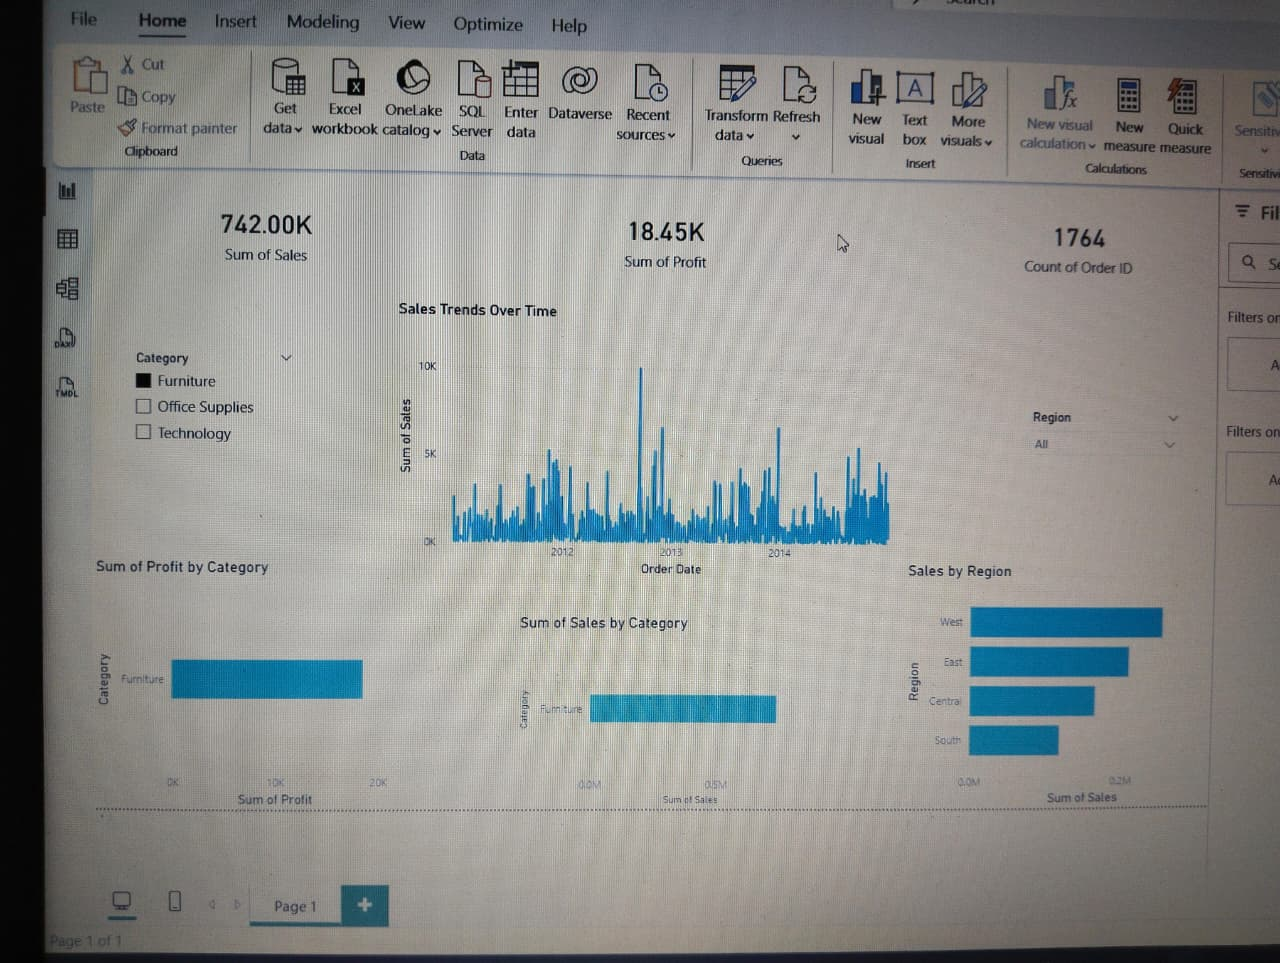

What the dashboard file says about the page in this screenshot:
{"tool":"powerbi","page":{"name":"Page 1","canvas":[1280,720],"ordinal":0},"visuals":[{"type":"card","fields":{"Values":["Sum(Superstore.Sales)"]},"box":[11,0,365,142.7],"z":0},{"type":"card","fields":{"Values":["Sum(Superstore.Profit)"]},"box":[472,0,334.8,142.7],"z":2},{"type":"card","fields":{"Values":["Count(Superstore.Order ID)"]},"box":[945.5,0,334.8,142.7],"z":5},{"type":"lineChart","title":"Sales Trends Over Time","fields":{"Category":["Superstore.Order Date"],"Y":["Sum(Superstore.Sales)"]},"box":[334.8,142.7,580.4,317],"z":6},{"type":"clusteredBarChart","fields":{"Category":["Superstore.Category"],"Y":["Sum(Superstore.Sales)"]},"box":[472,498.1,334.8,222.3],"z":7},{"type":"clusteredBarChart","fields":{"Y":["Sum(Superstore.Profit)"],"Category":["Superstore.Category"]},"box":[0,435,334.8,285.4],"z":8},{"type":"clusteredBarChart","title":"Sales by Region","fields":{"Category":["Superstore.Region"],"Y":["Sum(Superstore.Sales)"]},"box":[915.3,435,365,285.4],"z":9},{"type":"slicer","fields":{"Values":["Superstore.Region"]},"box":[1048.4,255.2,197.6,74.1],"z":10},{"type":"slicer","fields":{"Values":["Superstore.Category"]},"box":[37,199,197.6,130.4],"z":11}]}

Visuals, with their boxes on the page's 1280x720 design canvas (x1, y1, x2, y2). These are canvas units, not pixel positions in the 1280x963 screenshot, which may show the page scaled, cropped or inside an application window:
card - Sum(Superstore.Sales): box=[11, 0, 376, 143]
card - Sum(Superstore.Profit): box=[472, 0, 807, 143]
card - Count(Superstore.Order ID): box=[946, 0, 1280, 143]
"Sales Trends Over Time" lineChart: box=[335, 143, 915, 460]
clusteredBarChart - Superstore.Category x Sum(Superstore.Sales): box=[472, 498, 807, 720]
clusteredBarChart - Sum(Superstore.Profit) x Superstore.Category: box=[0, 435, 335, 720]
"Sales by Region" clusteredBarChart: box=[915, 435, 1280, 720]
slicer - Superstore.Region: box=[1048, 255, 1246, 329]
slicer - Superstore.Category: box=[37, 199, 235, 329]
